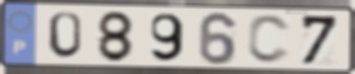0: (45, 11, 84, 61)
6: (197, 11, 239, 67)
7: (299, 14, 341, 67)
8: (95, 10, 136, 64)
9: (149, 12, 185, 64)
C: (245, 14, 293, 66)
